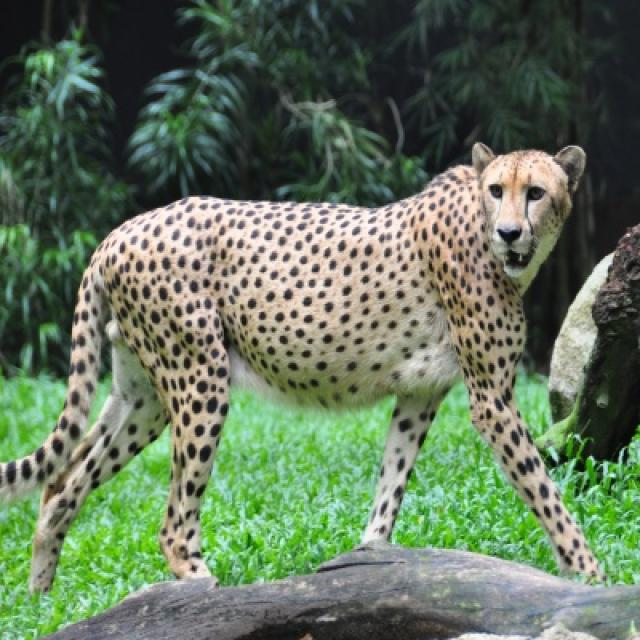Cheetah: (0, 144, 600, 597)
